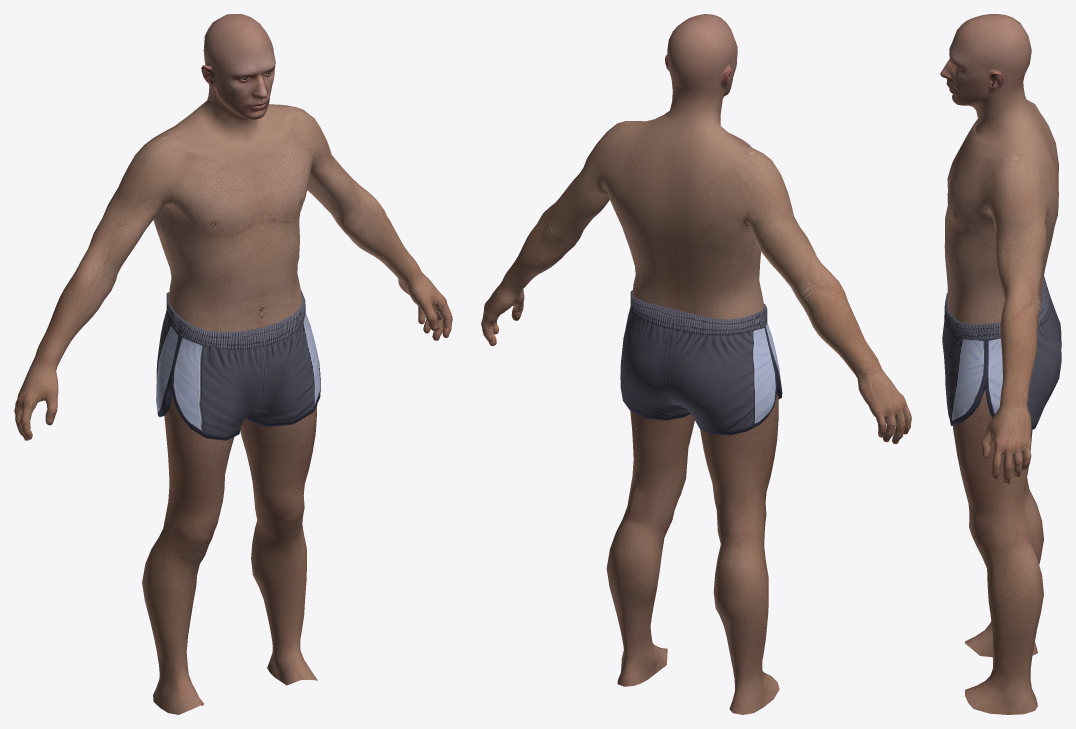
The model's file is male.glb.
3 views of the same model, side by side, from view 1: azimuth 30°, elevation 25°; view 2: azimuth 150°, elevation 25°; view 3: azimuth 270°, elevation 25° (orthographic). The views are drawn at different scales.
Parts seen in each view (by area): view 1: mp_m_freemode_01; view 2: mp_m_freemode_01; view 3: mp_m_freemode_01.
Boxes of the visible parts, x1=… form: mp_m_freemode_01: x1=14, y1=14, x2=452, y2=714; mp_m_freemode_01: x1=481, y1=14, x2=911, y2=714; mp_m_freemode_01: x1=940, y1=14, x2=1061, y2=714.
Size of the model in its own units: 1.19 by 1.78 by 0.2947.
3 materials, 3 textured.
